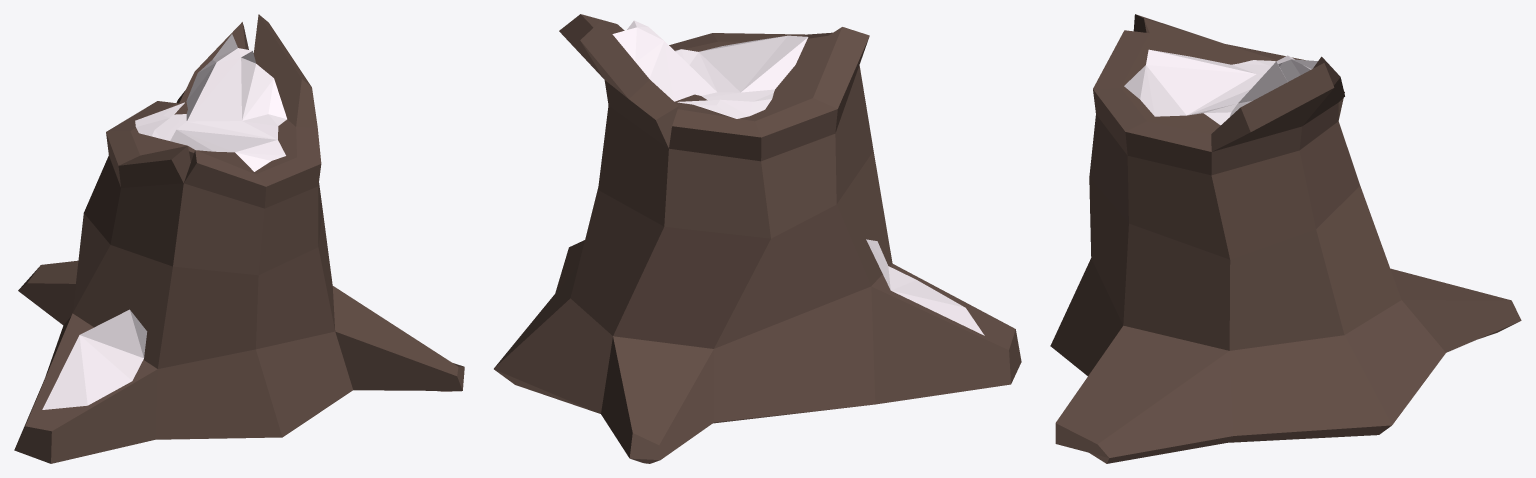
Rendered from Tree Stomp Snow.fbx.
3 renders of one model, left to right at view 1: azimuth 30°, elevation 25°; view 2: azimuth 150°, elevation 25°; view 3: azimuth 270°, elevation 25°, orthographic. The views are drawn at different scales.
Visible parts, largest first — view 1: Stomp2.003; view 2: Stomp2.003; view 3: Stomp2.003.
Boxes of the visible parts, box(x1,y1,x2,y2) form: Stomp2.003: box(14, 14, 464, 463); Stomp2.003: box(494, 14, 1021, 463); Stomp2.003: box(1050, 14, 1521, 463).
Size of the model in its own units: 1.1 by 0.7985 by 0.9627.
